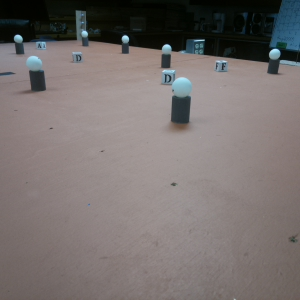blockA: (35, 40, 46, 50)
blockD: (161, 66, 178, 85), (73, 52, 82, 61)
blockF: (215, 60, 228, 70)
corner: (76, 10, 90, 40)
obstacle: (170, 76, 192, 125), (25, 57, 47, 90), (268, 48, 282, 76), (160, 43, 172, 66), (14, 34, 24, 55), (80, 30, 91, 44), (121, 35, 129, 54)
